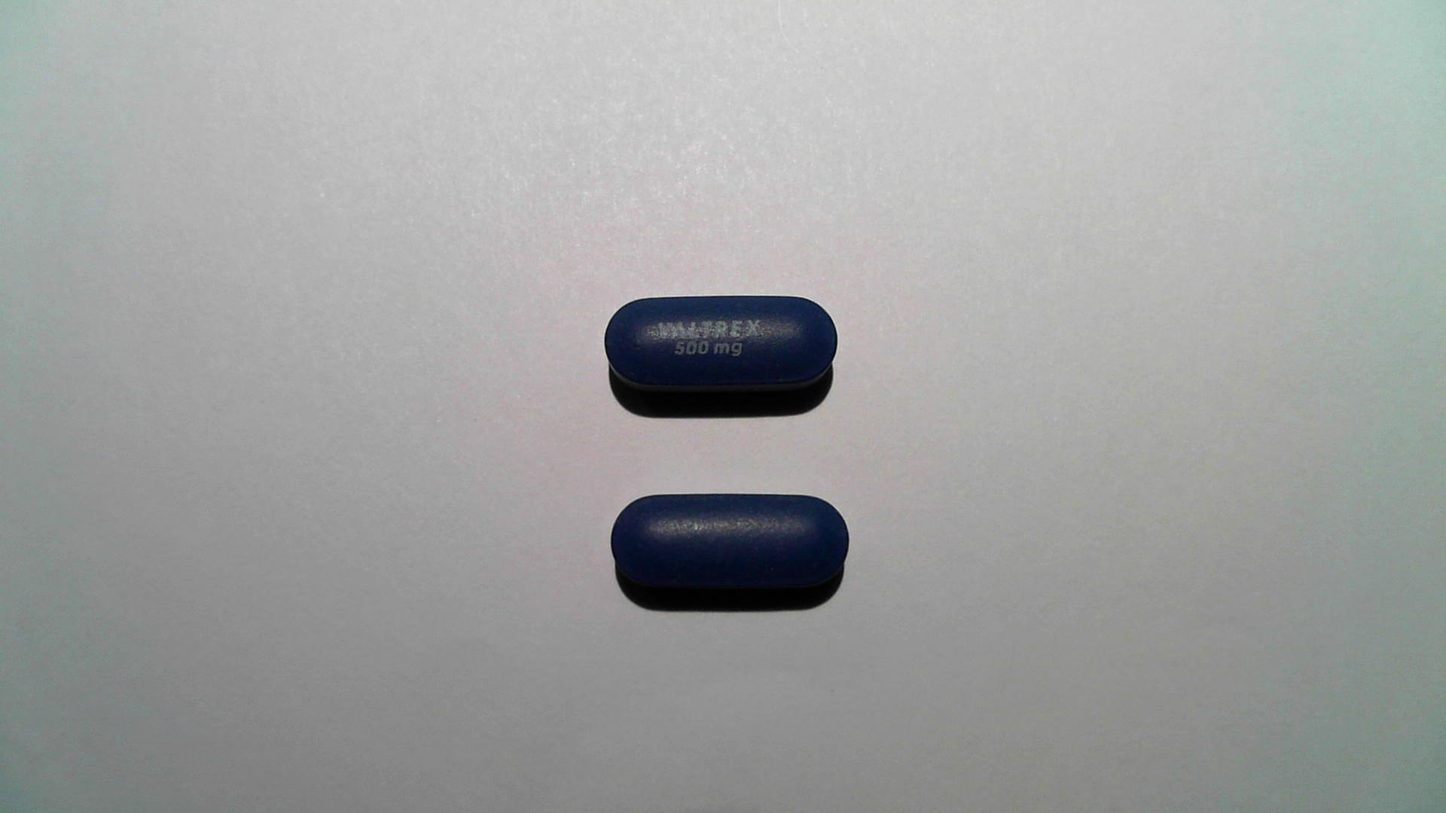Pill: (604, 483, 856, 595), (596, 288, 845, 400)
